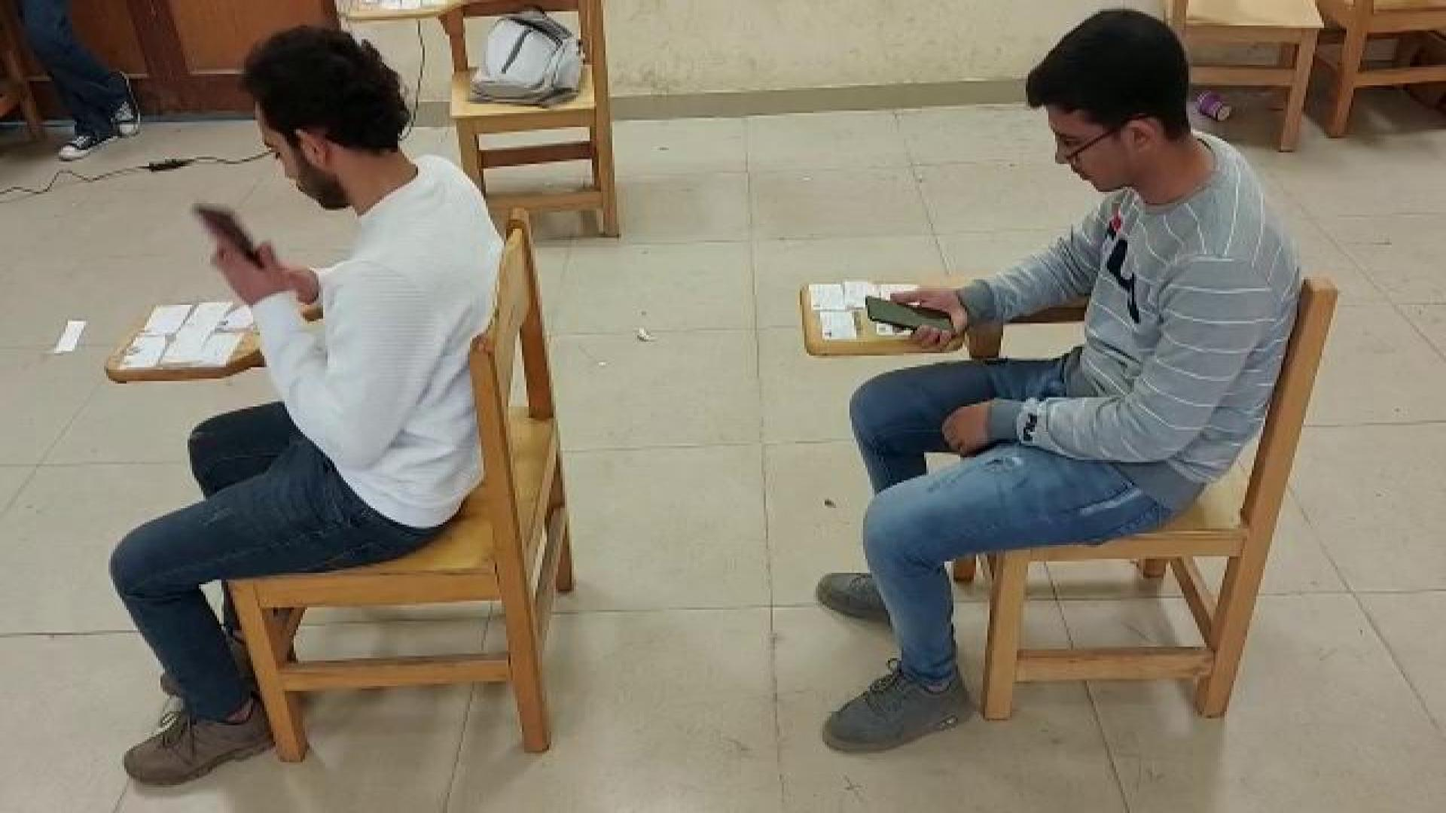phone: (863, 295, 958, 340)
